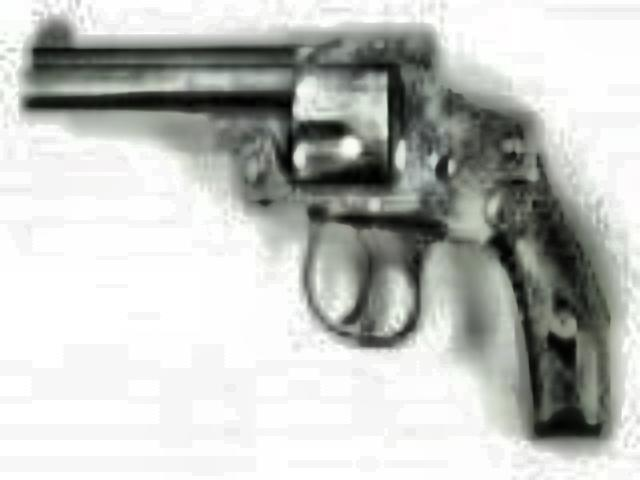pistol: (28, 24, 620, 440)
